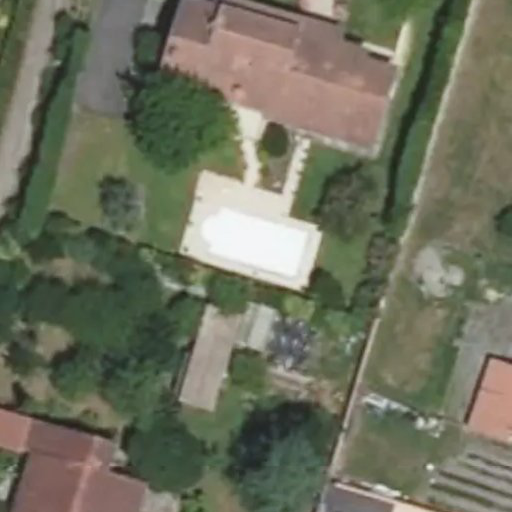pool: (191, 204, 317, 286)
